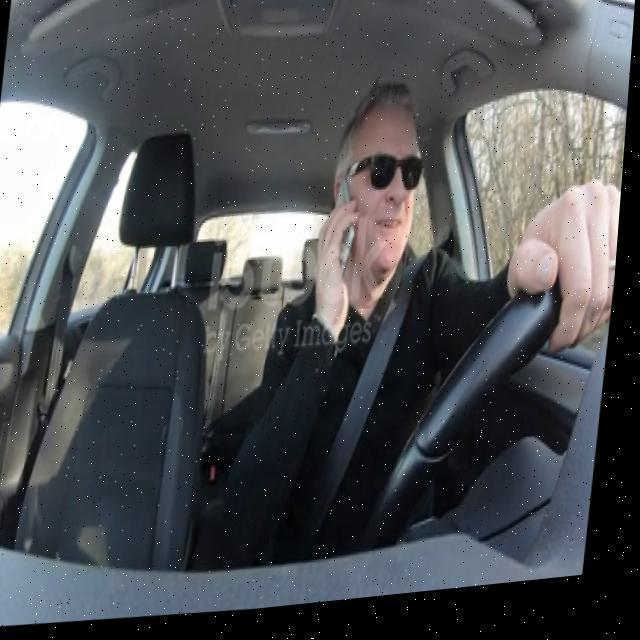PhoneCall: (327, 182, 366, 292)
